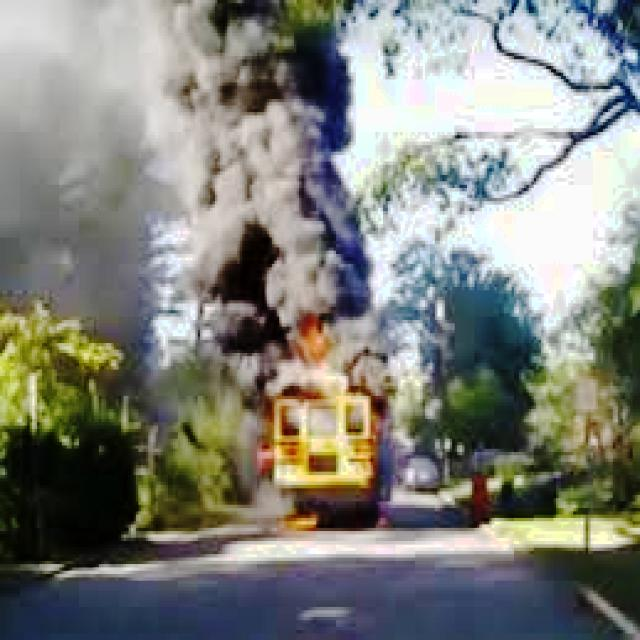api: (263, 311, 377, 394)
